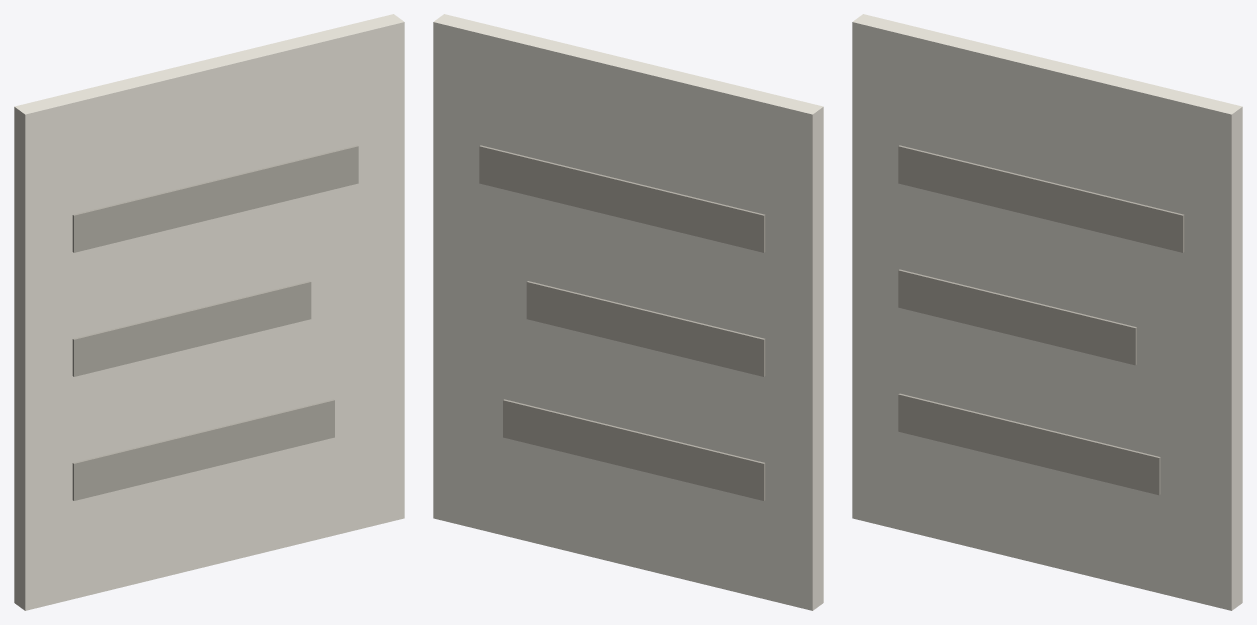
File: paper.glb
3 views of the same model, side by side, from view 1: azimuth 30°, elevation 25°; view 2: azimuth 150°, elevation 25°; view 3: azimuth 330°, elevation 25° (orthographic).
Visible parts, largest first — view 1: paper; view 2: paper; view 3: paper.
Boxes of the visible parts, x1=… form: paper: x1=14, y1=14, x2=404, y2=610; paper: x1=433, y1=14, x2=823, y2=610; paper: x1=852, y1=14, x2=1242, y2=610.
Size of the model in its own units: 0.16 by 0.2 by 0.01.
Materials: 1 (1 with a texture image).
